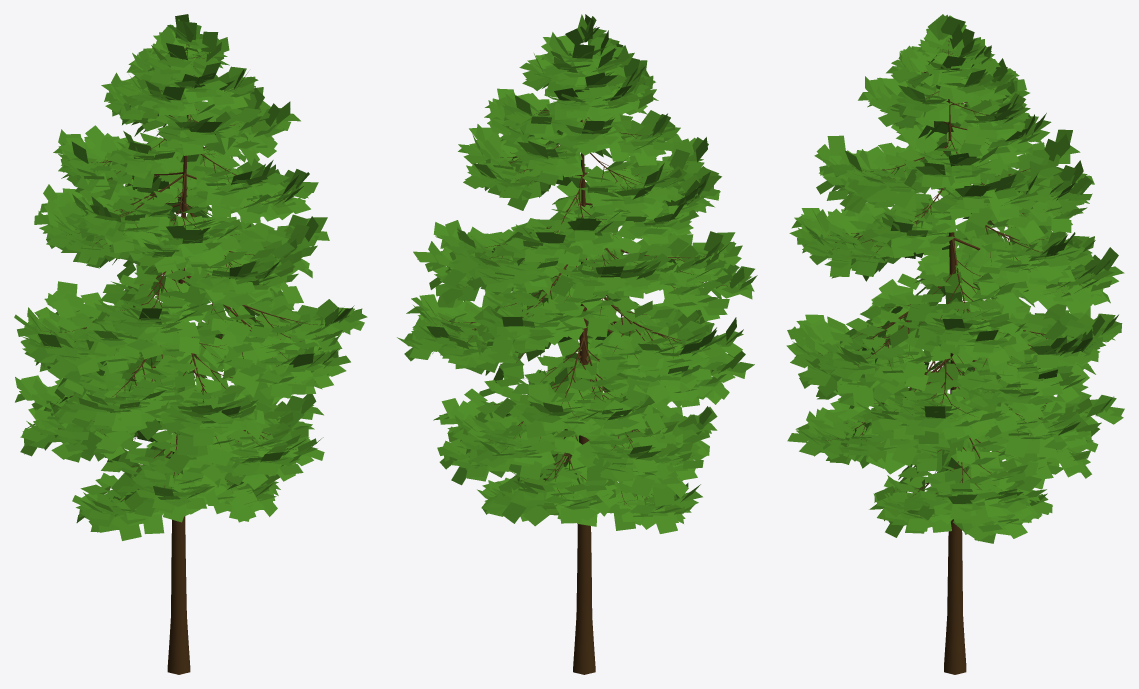
File: Tree.fbx
3 renders of one model, left to right at view 1: azimuth 30°, elevation 25°; view 2: azimuth 150°, elevation 25°; view 3: azimuth 270°, elevation 25°, orthographic.
Visible parts, largest first — view 1: leaves, tree; view 2: leaves, tree; view 3: leaves, tree.
Part boxes in pixels (bbox=[...]): leaves: bbox=[14, 14, 367, 540]; tree: bbox=[44, 44, 335, 674]; leaves: bbox=[397, 14, 757, 533]; tree: bbox=[439, 55, 727, 674]; leaves: bbox=[786, 14, 1124, 543]; tree: bbox=[820, 40, 1091, 674].
Bounding box in the file's own units: 1766 × 3579 × 1675.
